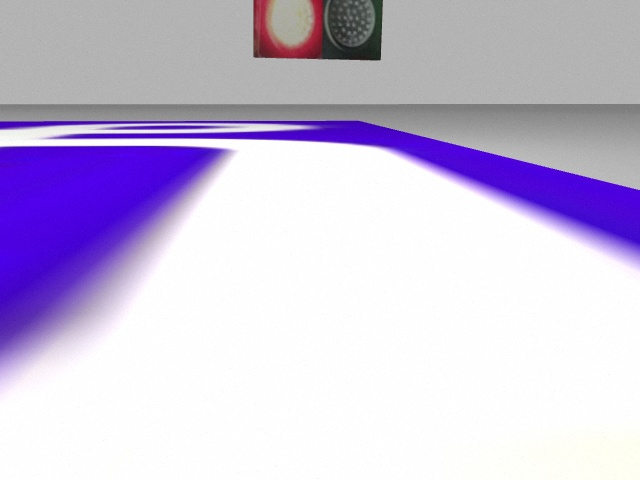red: (253, 2, 322, 60)
